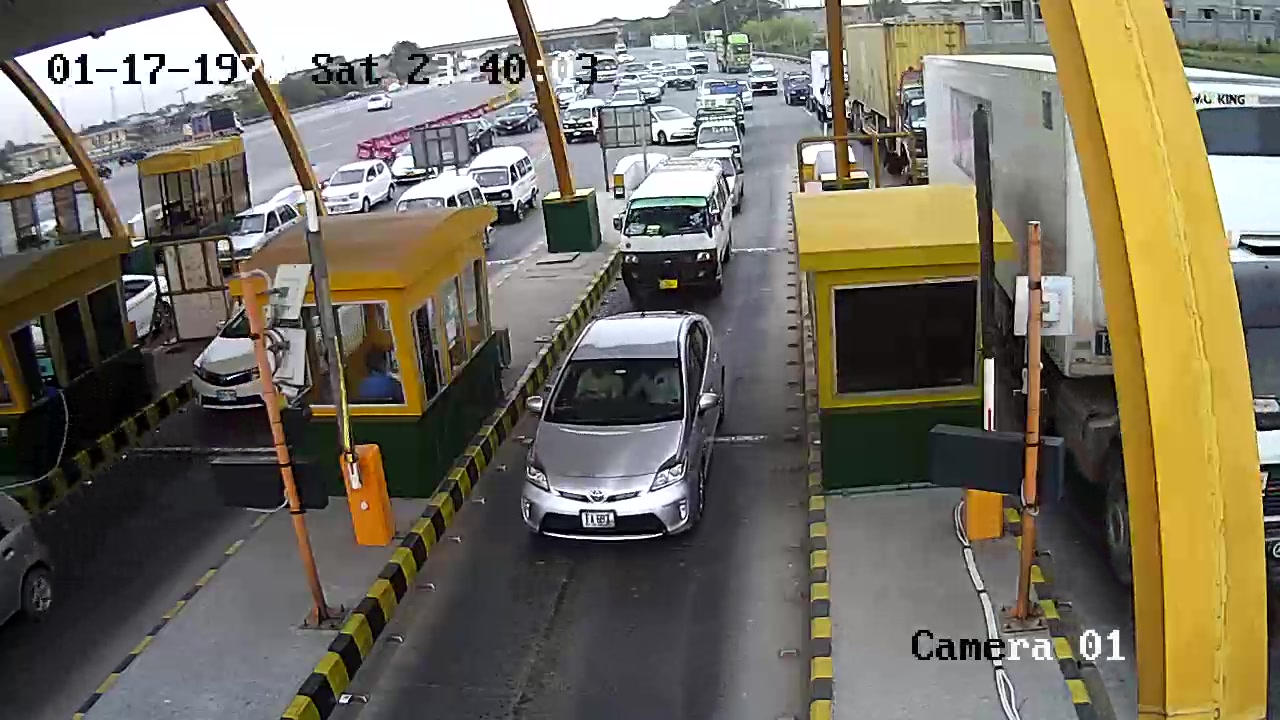F1: (522, 306, 749, 551)
F3: (615, 155, 744, 304)
